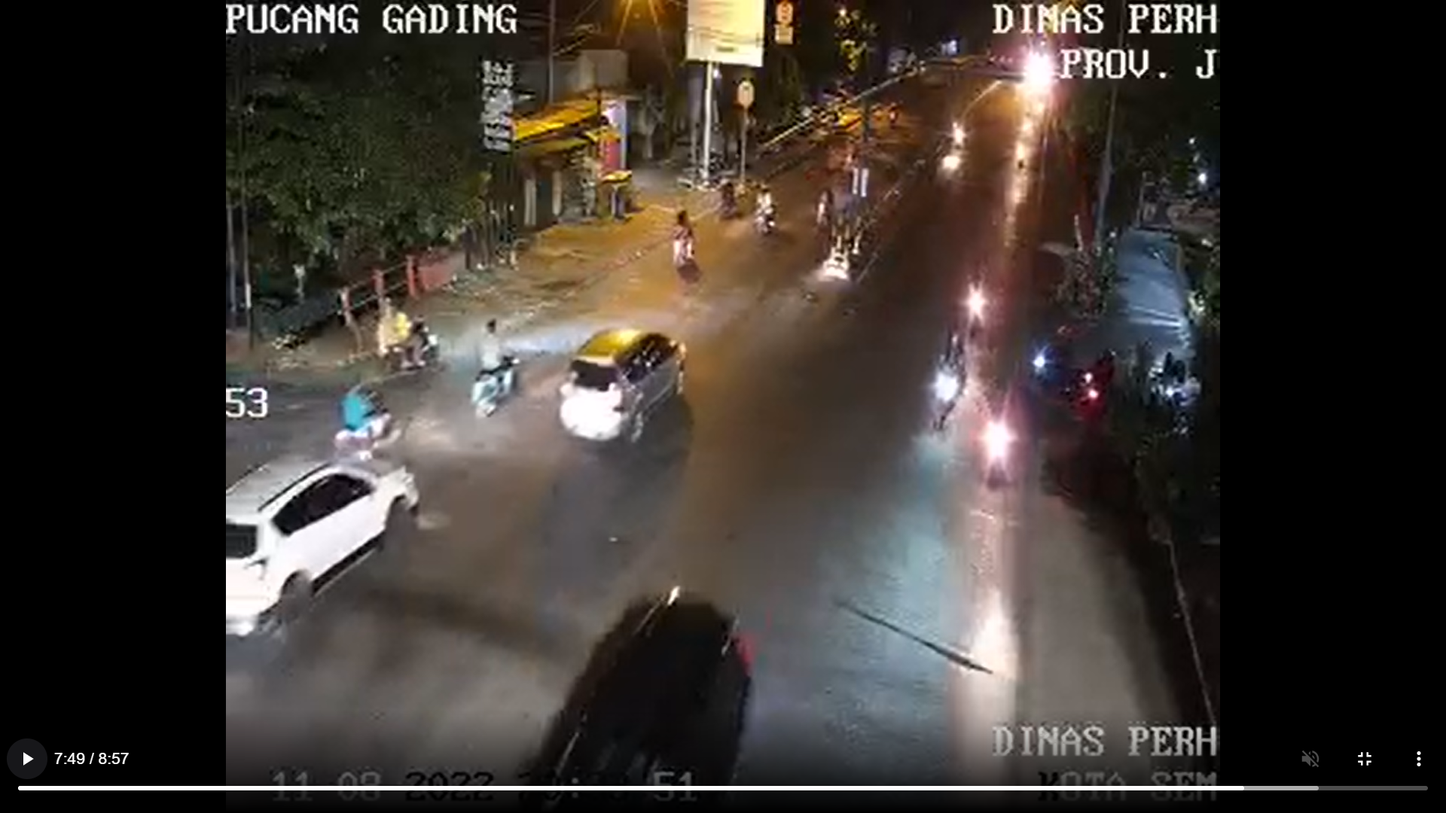without_helmet: (454, 305, 534, 425)
